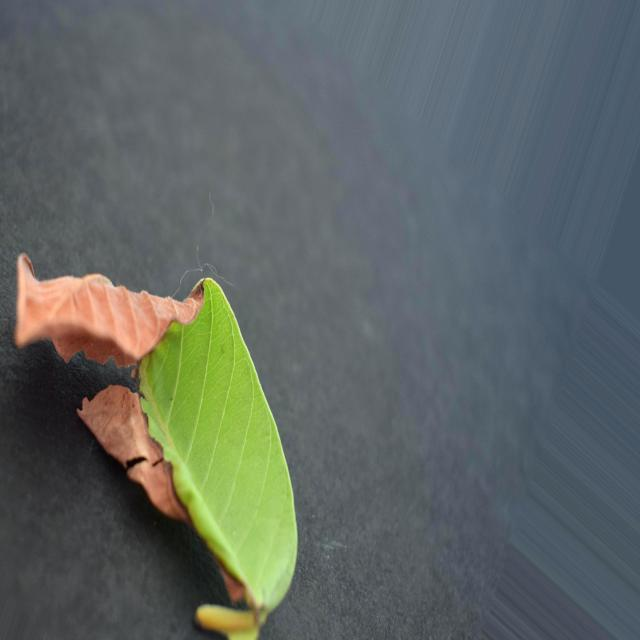Mummification: (15, 255, 298, 639)
